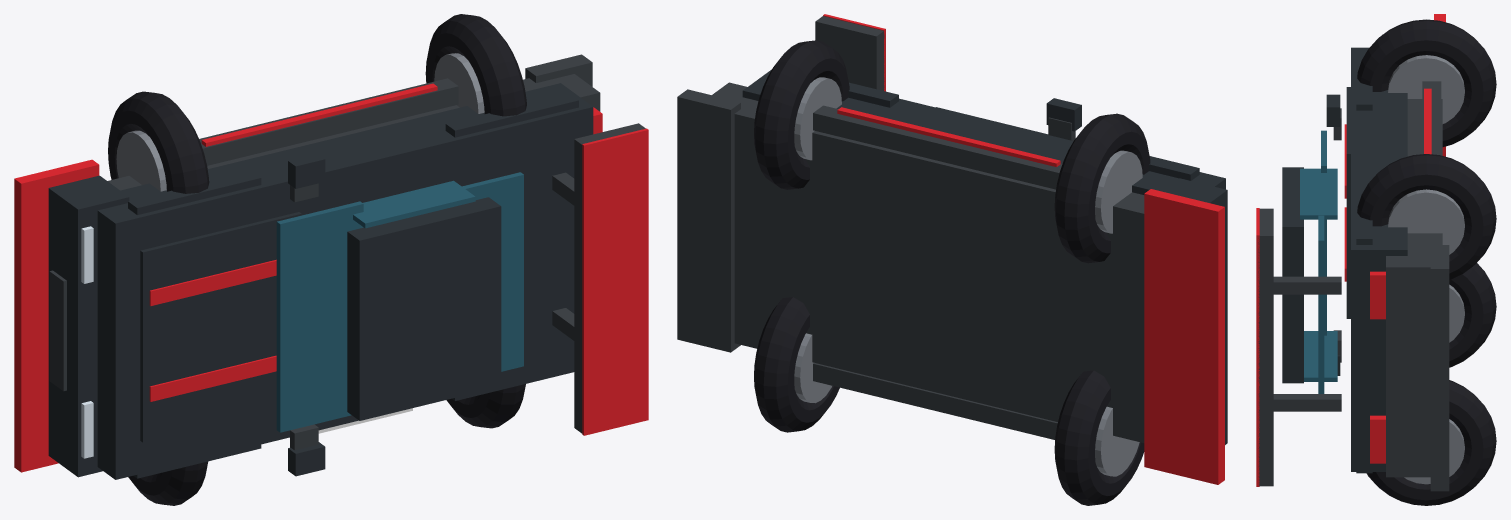
The model's file is carro_corrida_23.glb.
3 renders of one model, left to right at view 1: azimuth 30°, elevation 25°; view 2: azimuth 150°, elevation 25°; view 3: azimuth 270°, elevation 25°, orthographic. The views are drawn at different scales.
Visible parts, largest first — view 1: Gloss_Black, Red, Glass, Carbon, Rubber, Metal, Light; view 2: Carbon, Rubber, Red, Gloss_Black, Metal; view 3: Carbon, Rubber, Gloss_Black, Metal, Glass, Red.
Part boxes in pixels (x1=…): Gloss_Black: x1=48, y1=83, x2=593, y2=479; Red: x1=14, y1=83, x2=648, y2=472; Glass: x1=276, y1=172, x2=523, y2=432; Carbon: x1=49, y1=54, x2=645, y2=450; Rubber: x1=108, y1=14, x2=526, y2=505; Metal: x1=116, y1=53, x2=484, y2=191; Light: x1=81, y1=226, x2=93, y2=458; Carbon: x1=677, y1=16, x2=1144, y2=442; Rubber: x1=754, y1=40, x2=1150, y2=505; Red: x1=823, y1=14, x2=1224, y2=484; Gloss_Black: x1=742, y1=69, x2=1227, y2=444; Metal: x1=794, y1=77, x2=1142, y2=476; Carbon: x1=1258, y1=81, x2=1449, y2=491; Rubber: x1=1357, y1=19, x2=1496, y2=505; Gloss_Black: x1=1282, y1=34, x2=1407, y2=473; Metal: x1=1388, y1=55, x2=1464, y2=484; Glass: x1=1300, y1=130, x2=1337, y2=393; Red: x1=1256, y1=14, x2=1445, y2=486.
Bounding box in the file's own units: 4.23 × 2.86 × 1.78.
